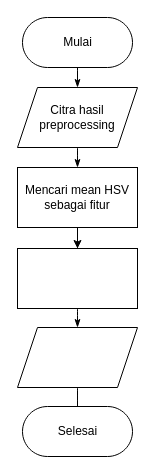
This 155x474 diagram has some shape labels left out. The box of each missing label's shape, as (x1, y1, x2, y2) in pixels:
Hasil ekstraksi fitur: (16, 326, 138, 388)
Menggabungkan fitur dan label: (16, 248, 138, 308)
